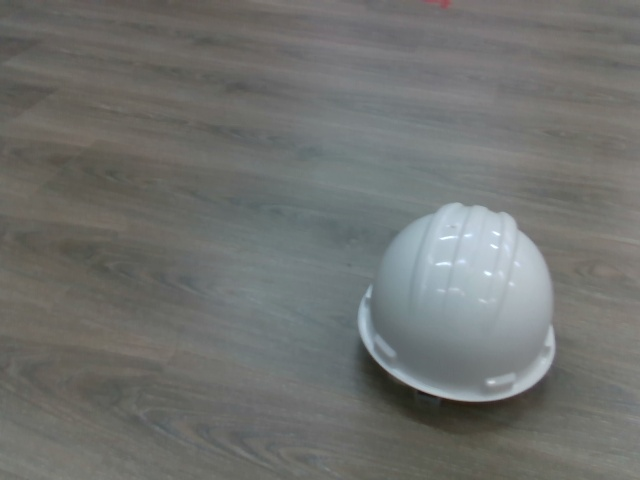helmet: (357, 199, 560, 411)
